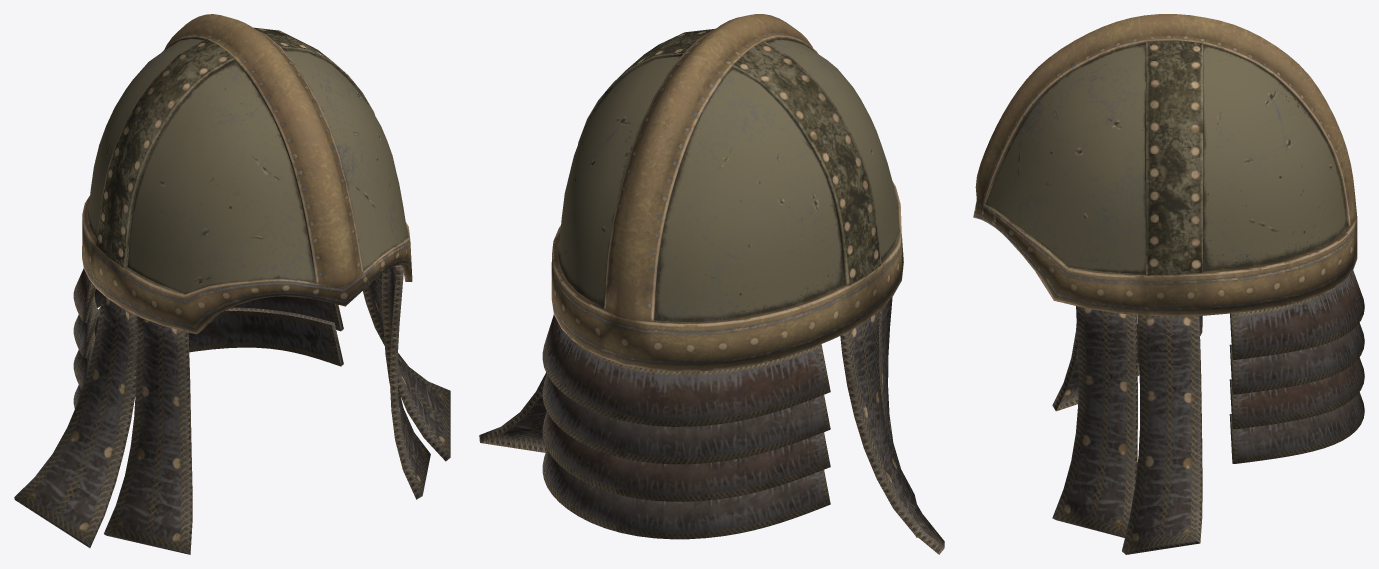
Rendered from dunland_wulf_helmet_medium_b.fbx.
The picture shows the model from 3 angles, left to right: view 1: azimuth 30°, elevation 25°; view 2: azimuth 150°, elevation 25°; view 3: azimuth 270°, elevation 25°; orthographic projection. The views are drawn at different scales.
Visible parts, largest first — view 1: dunland_wulf_helmet_medium_b; view 2: dunland_wulf_helmet_medium_b; view 3: dunland_wulf_helmet_medium_b.
Boxes of the visible parts, x1,y1,x2,y2 form: dunland_wulf_helmet_medium_b: (14, 14, 450, 554); dunland_wulf_helmet_medium_b: (479, 14, 944, 554); dunland_wulf_helmet_medium_b: (973, 14, 1364, 554).
Size of the model in its own units: 0.3247 by 0.256 by 0.3284.
1 material, 1 textured.
